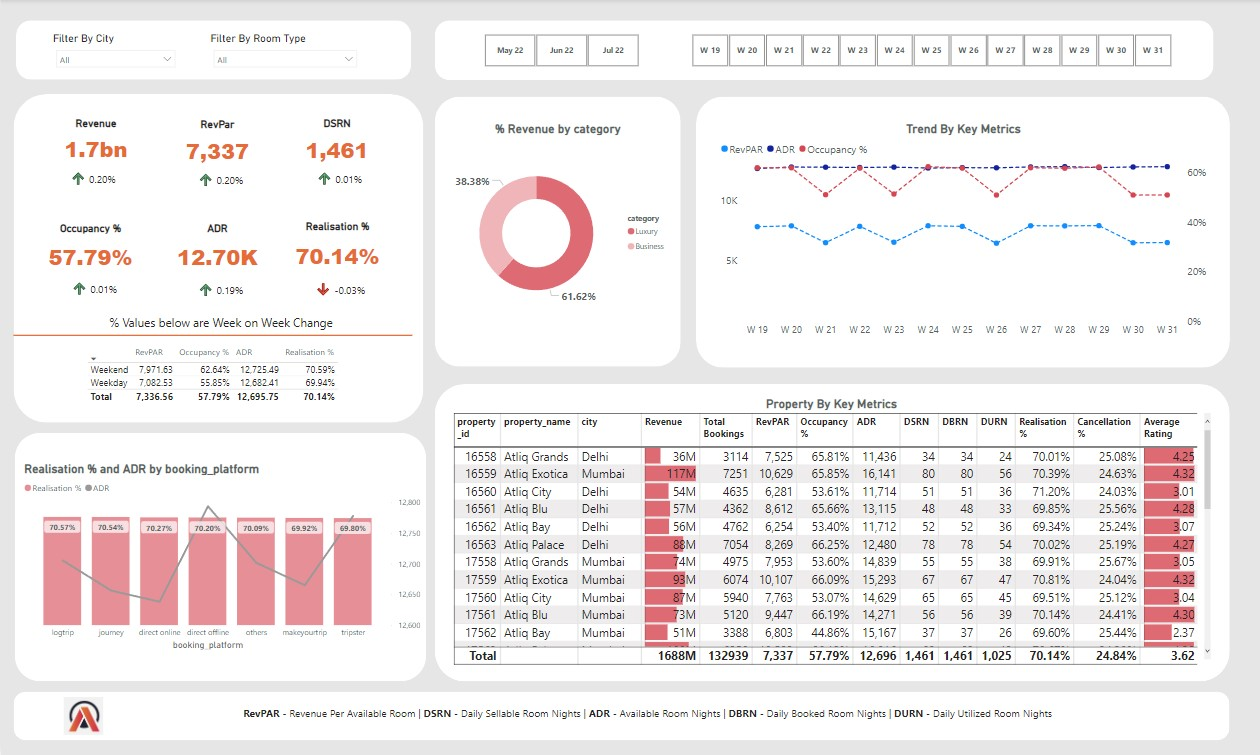

What the dashboard file says about the page in this screenshot:
{"tool":"powerbi","page":{"name":"Page 1","canvas":[2000,1200],"ordinal":0},"visuals":[{"type":"shape","box":[688.3,610.9,1261.5,472.1],"z":1000},{"type":"shape","box":[21.8,688.3,652.6,394.7],"z":2000},{"type":"shape","box":[1102.8,154.7,846.9,430.4],"z":3000},{"type":"shape","box":[688.3,154.8,390.7,428.4],"z":4000},{"type":"shape","box":[19.8,150.7,650.6,521.7],"z":5000},{"type":"shape","box":[688.3,33.7,1235.7,95.2],"z":6000},{"type":"shape","box":[23.6,34.3,627.3,94.5],"z":7000},{"type":"tableEx","title":"Property By Key Metrics","fields":{"Values":["dim_hotels.property_id","dim_hotels.property_name","dim_hotels.city","key_measures.Revenue","key_measures.Total Bookings","key_measures.RevPAR","key_measures.Occupancy %","key_measures.ADR","key_measures.DSRN","key_measures.DBRN","key_measures.DURN","key_measures.Realisation %"]},"box":[712.1,630.7,1211.9,430.4],"z":8000},{"type":"slicer","title":"Filter By City","fields":{"Values":["dim_hotels.city"]},"box":[76.4,50.7,209.1,61.8],"z":9000},{"type":"slicer","title":"Filter By Room Type","fields":{"Values":["dim_rooms.room_class"]},"box":[327.3,50.7,247.3,61.8],"z":10000},{"type":"slicer","title":"Filter By City","fields":{"Values":["dim_date.mmm yy"]},"box":[741.8,49.6,293.6,63.5],"z":11000},{"type":"slicer","title":"Filter By City","fields":{"Values":["dim_date.week no"]},"box":[1071.1,49.9,809.3,63.5],"z":12000},{"type":"tableEx","fields":{"Values":["key_measures.Revenue WoW change %"]},"box":[101.2,240,121,83.3],"z":13000},{"type":"donutChart","title":"% Revenue by category","fields":{"Category":["dim_hotels.category"],"Y":["key_measures.Revenue"]},"box":[700.2,194.4,366.9,333.2],"z":14000},{"type":"card","title":"Revenue","fields":{"Values":["key_measures.Revenue"]},"box":[59.5,186.5,182.5,85.3],"z":15000},{"type":"tableEx","fields":{"Values":["key_measures.RevPAR WoW change %"]},"box":[303.5,242.1,125,81.3],"z":16000},{"type":"card","title":"RevPar","fields":{"Values":["key_measures.RevPAR"]},"box":[257.6,187.7,171.3,85.6],"z":17000},{"type":"tableEx","fields":{"Values":["key_measures.DSRN WoW change %"]},"box":[492.2,239.4,121,83.3],"z":18000},{"type":"card","title":"DSRN","fields":{"Values":["key_measures.DSRN"]},"box":[454.4,186.1,158,85.6],"z":19000},{"type":"lineChart","title":"Trend By Key Metrics","fields":{"Category":["dim_date.mmm yy.Variation.Date Hierarchy.Month","dim_date.week no"],"Y":["key_measures.RevPAR","key_measures.ADR"],"Y2":["key_measures.Occupancy %"]},"box":[1136.5,194.4,781.5,351.1],"z":20000},{"type":"lineStackedColumnComboChart","fields":{"Y":["key_measures.Realisation %"],"Category":["fact_bookings.booking_platform"],"Y2":["key_measures.ADR"]},"box":[31.7,733.9,638.7,303.5],"z":21000},{"type":"tableEx","fields":{"Values":["dim_date.day_type","key_measures.RevPAR","key_measures.Occupancy %","key_measures.ADR","key_measures.Realisation %"]},"box":[130.9,545.5,416.5,115],"z":22000},{"type":"tableEx","fields":{"Values":["key_measures.Occupancy WoW change %"]},"box":[103.1,414.6,119,83.3],"z":23000},{"type":"tableEx","fields":{"Values":["key_measures.ADR WoW change %"]},"box":[303.5,416.6,125,81.3],"z":24000},{"type":"tableEx","fields":{"Values":["key_measures.Realisation WoW change %"]},"box":[490.2,415.9,123,81.3],"z":25000},{"type":"card","title":"Occupancy %","fields":{"Values":["key_measures.Occupancy %"]},"box":[58.5,352.2,165.2,94.1],"z":26000},{"type":"card","title":"ADR","fields":{"Values":["key_measures.ADR"]},"box":[257.6,353.3,171.3,94.1],"z":27000},{"type":"card","title":"Realisation %","fields":{"Values":["key_measures.Realisation %"]},"box":[449.5,351.8,167.7,94],"z":28000},{"type":"shape","box":[19.8,1098.8,1929.9,77.4],"z":29000},{"type":"textbox","box":[374.9,1116.7,1319,41.7],"z":30000},{"type":"textbox","box":[140.8,495.9,416.5,37.7],"z":31000},{"type":"shape","box":[19.8,517.7,632.7,31.7],"z":32000},{"type":"image","box":[89.3,1102.8,83.3,69.4],"z":33000}]}

Visuals, with their boxes in screenshot pixels (x1, y1, x2, y2), scaled from the page's 2000x1200 canvas onto the 1260x755 screenshot:
shape: detection(434, 384, 1228, 681)
shape: detection(14, 433, 425, 681)
shape: detection(695, 97, 1228, 368)
shape: detection(434, 97, 680, 367)
shape: detection(12, 95, 422, 423)
shape: detection(434, 21, 1212, 81)
shape: detection(15, 22, 410, 81)
"Property By Key Metrics" tableEx: detection(449, 397, 1212, 668)
"Filter By City" slicer: detection(48, 32, 180, 71)
"Filter By Room Type" slicer: detection(206, 32, 362, 71)
"Filter By City" slicer: detection(467, 31, 652, 71)
"Filter By City" slicer: detection(675, 31, 1185, 71)
tableEx - key_measures.Revenue WoW change %: detection(64, 151, 140, 203)
"% Revenue by category" donutChart: detection(441, 122, 672, 332)
"Revenue" card: detection(37, 117, 152, 171)
tableEx - key_measures.RevPAR WoW change %: detection(191, 152, 270, 203)
"RevPar" card: detection(162, 118, 270, 172)
tableEx - key_measures.DSRN WoW change %: detection(310, 151, 386, 203)
"DSRN" card: detection(286, 117, 386, 171)
"Trend By Key Metrics" lineChart: detection(716, 122, 1208, 343)
lineStackedColumnComboChart - key_measures.Realisation % x fact_bookings.booking_platform: detection(20, 462, 422, 653)
tableEx - dim_date.day_type x key_measures.RevPAR: detection(82, 343, 345, 416)
tableEx - key_measures.Occupancy WoW change %: detection(65, 261, 140, 313)
tableEx - key_measures.ADR WoW change %: detection(191, 262, 270, 313)
tableEx - key_measures.Realisation WoW change %: detection(309, 262, 386, 313)
"Occupancy %" card: detection(37, 222, 141, 281)
"ADR" card: detection(162, 222, 270, 281)
"Realisation %" card: detection(283, 221, 389, 280)
shape: detection(12, 691, 1228, 740)
textbox: detection(236, 703, 1067, 729)
textbox: detection(89, 312, 351, 336)
shape: detection(12, 326, 411, 346)
image: detection(56, 694, 109, 738)
